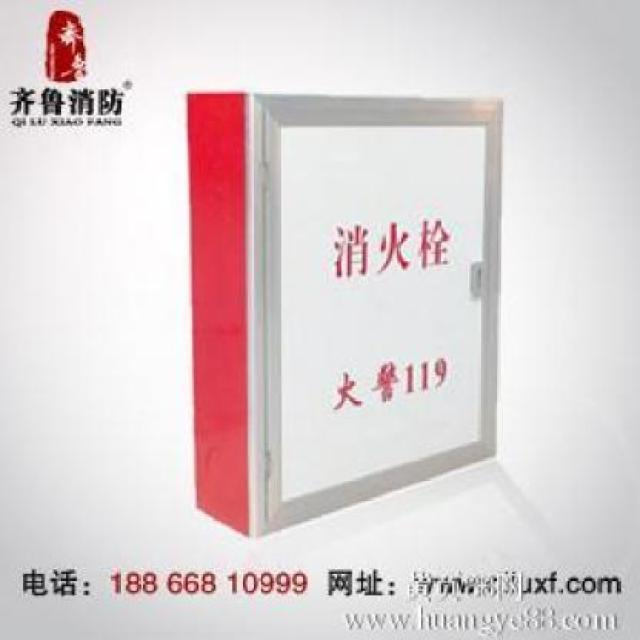firehydrant: (180, 83, 512, 545)
